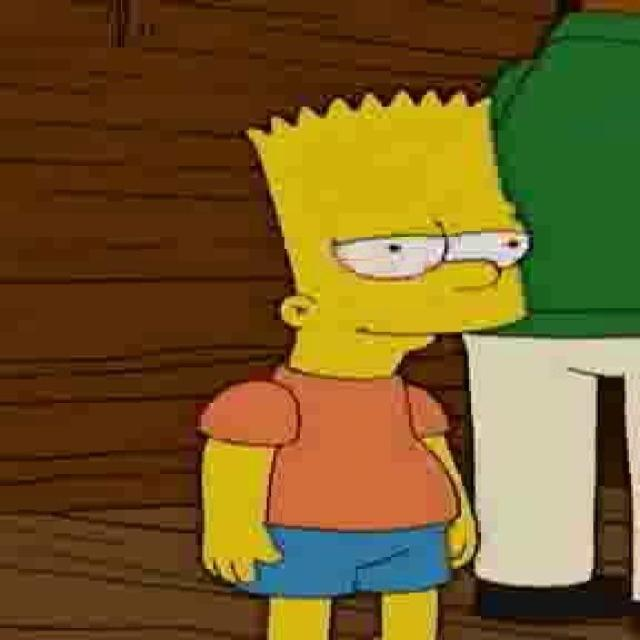Bart Simpson: (244, 86, 534, 384)
